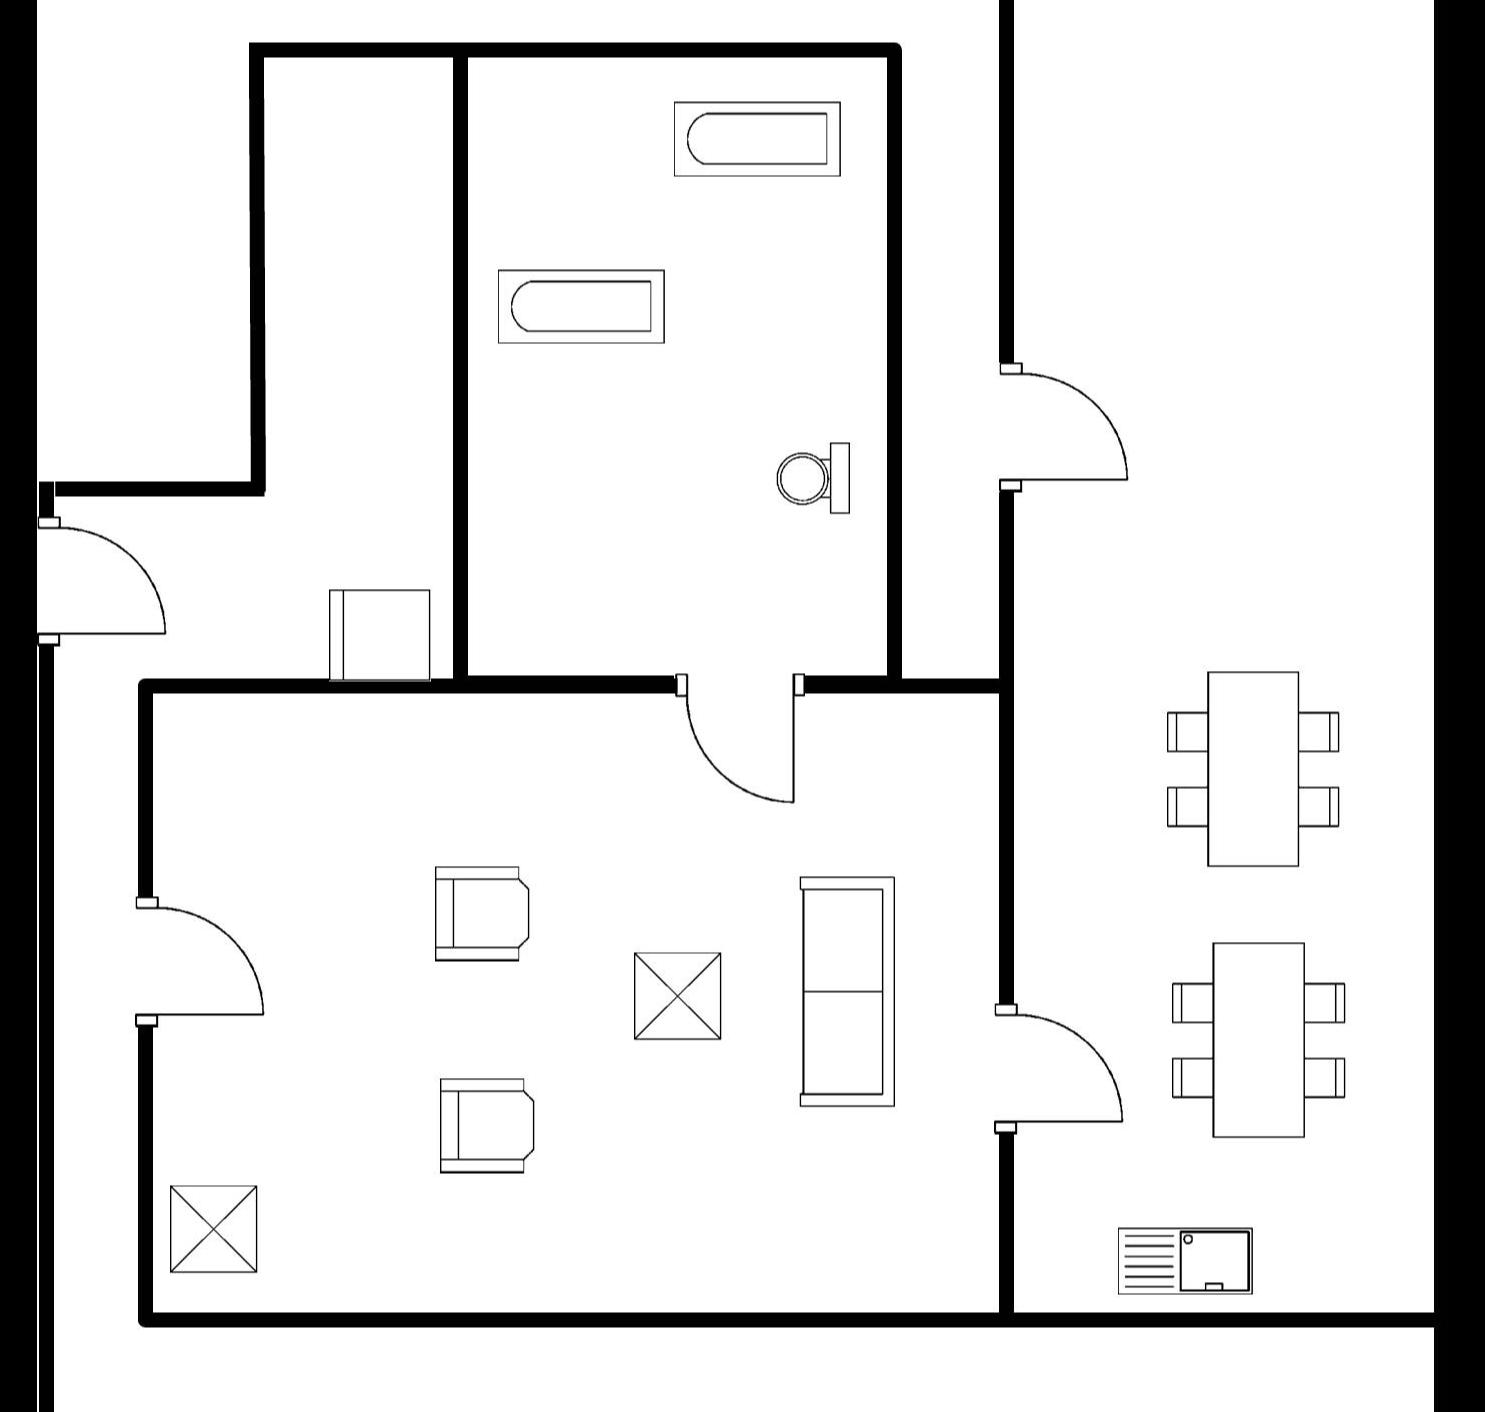dining_table: (1151, 656, 1358, 879), (1155, 932, 1359, 1153)
sink: (1107, 1213, 1261, 1306)
sofa: (784, 868, 908, 1119)
toilet: (765, 431, 862, 525)
tub: (663, 90, 854, 191), (484, 257, 676, 354)
